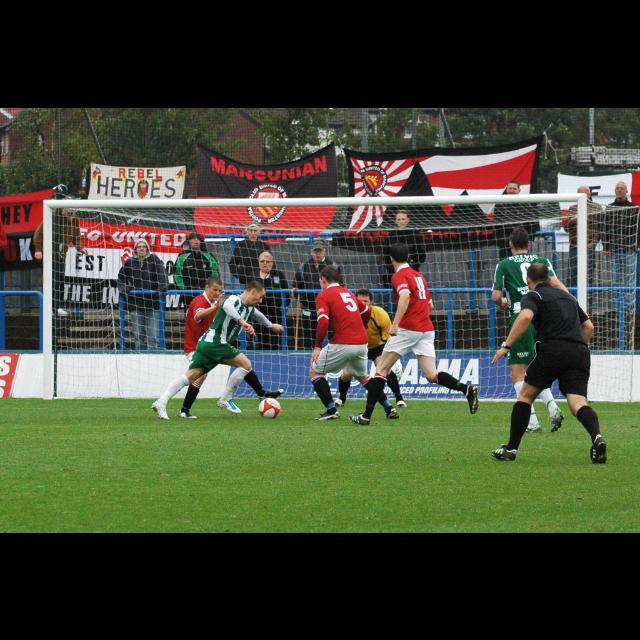Football: (258, 396, 278, 420)
